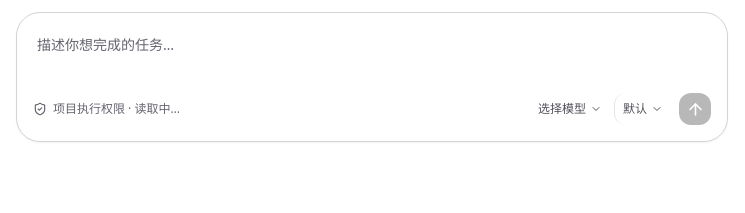
Scenario: InputBar › retains prompt and re-enables input after IPC failure
Type "retry me" into the text box at coordinates (372, 57), box [33,29,711,85]
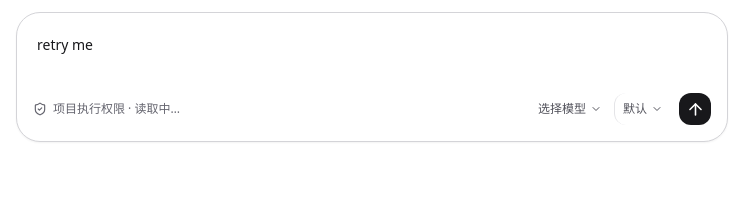
Click the button named "发送" at coordinates (695, 109), box [679,93,711,125]
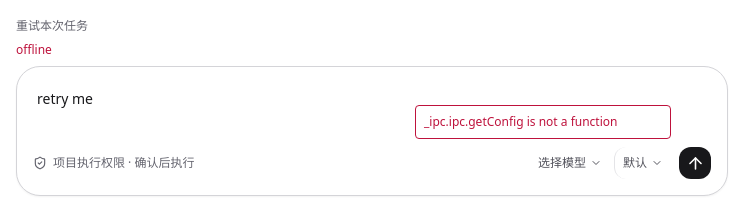
Result: the button named "发送" is enabled at [679,147,711,179]
Result: the text "offline" is shown at [16,41,52,58]
